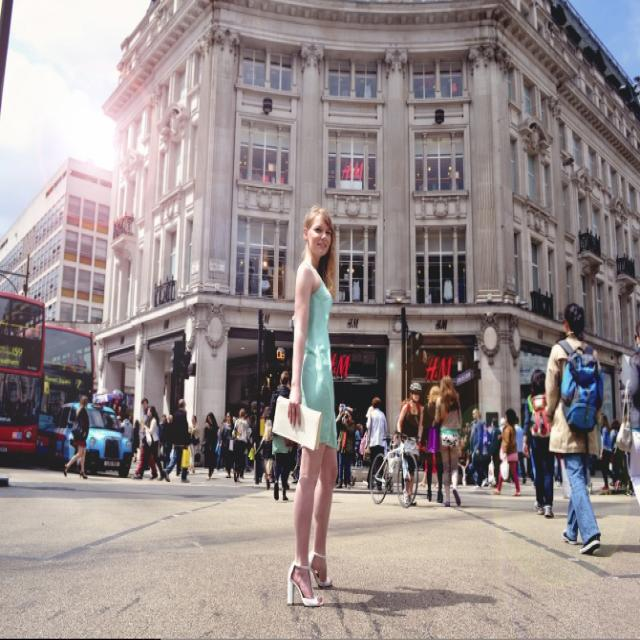body: (269, 202, 342, 610), (542, 299, 604, 557), (0, 348, 132, 449), (201, 404, 303, 491), (520, 366, 558, 519), (615, 320, 640, 506), (431, 373, 464, 507), (526, 444, 598, 496), (267, 370, 295, 502), (396, 381, 425, 508), (421, 384, 446, 504), (160, 396, 193, 484), (491, 406, 522, 498), (130, 403, 166, 482), (60, 392, 91, 480), (364, 395, 388, 493), (131, 396, 158, 481), (597, 411, 622, 494), (253, 404, 275, 492), (334, 404, 356, 490), (467, 406, 489, 491), (198, 410, 220, 482), (230, 407, 250, 485), (216, 410, 237, 480), (334, 402, 350, 486), (334, 435, 358, 487), (458, 419, 477, 483), (158, 411, 175, 481), (497, 415, 513, 482), (513, 415, 528, 486), (612, 453, 636, 496), (186, 412, 202, 476), (478, 420, 493, 487), (490, 417, 503, 490), (358, 406, 374, 457), (358, 420, 373, 468), (256, 374, 276, 403), (131, 418, 141, 464), (121, 411, 134, 441), (608, 419, 620, 450), (354, 423, 362, 466)
